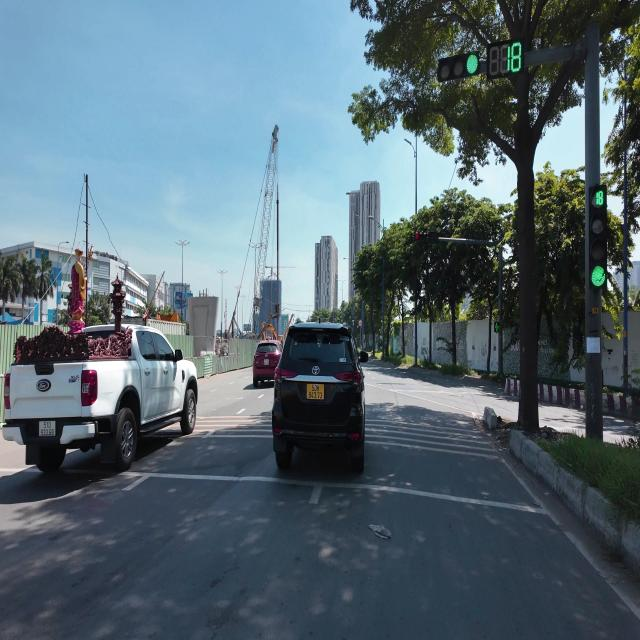car: (2, 326, 197, 471), (272, 323, 367, 471), (253, 340, 281, 387)
